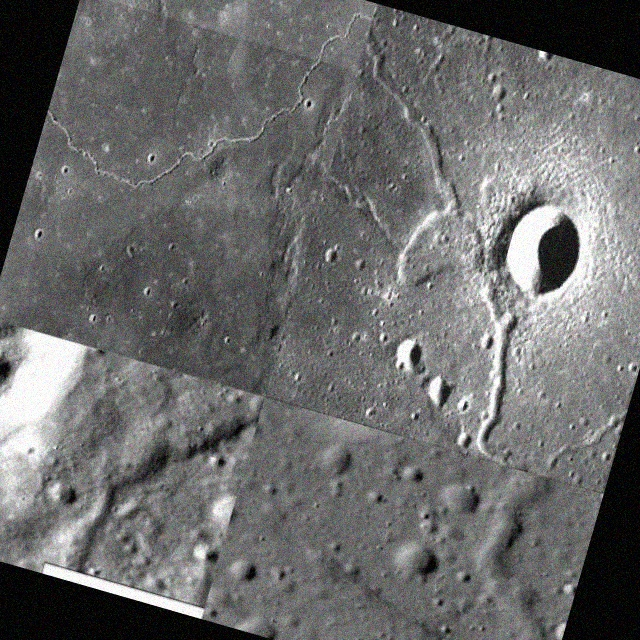crater: (265, 3, 640, 492), (0, 0, 372, 395), (439, 465, 592, 640), (81, 0, 375, 71)
